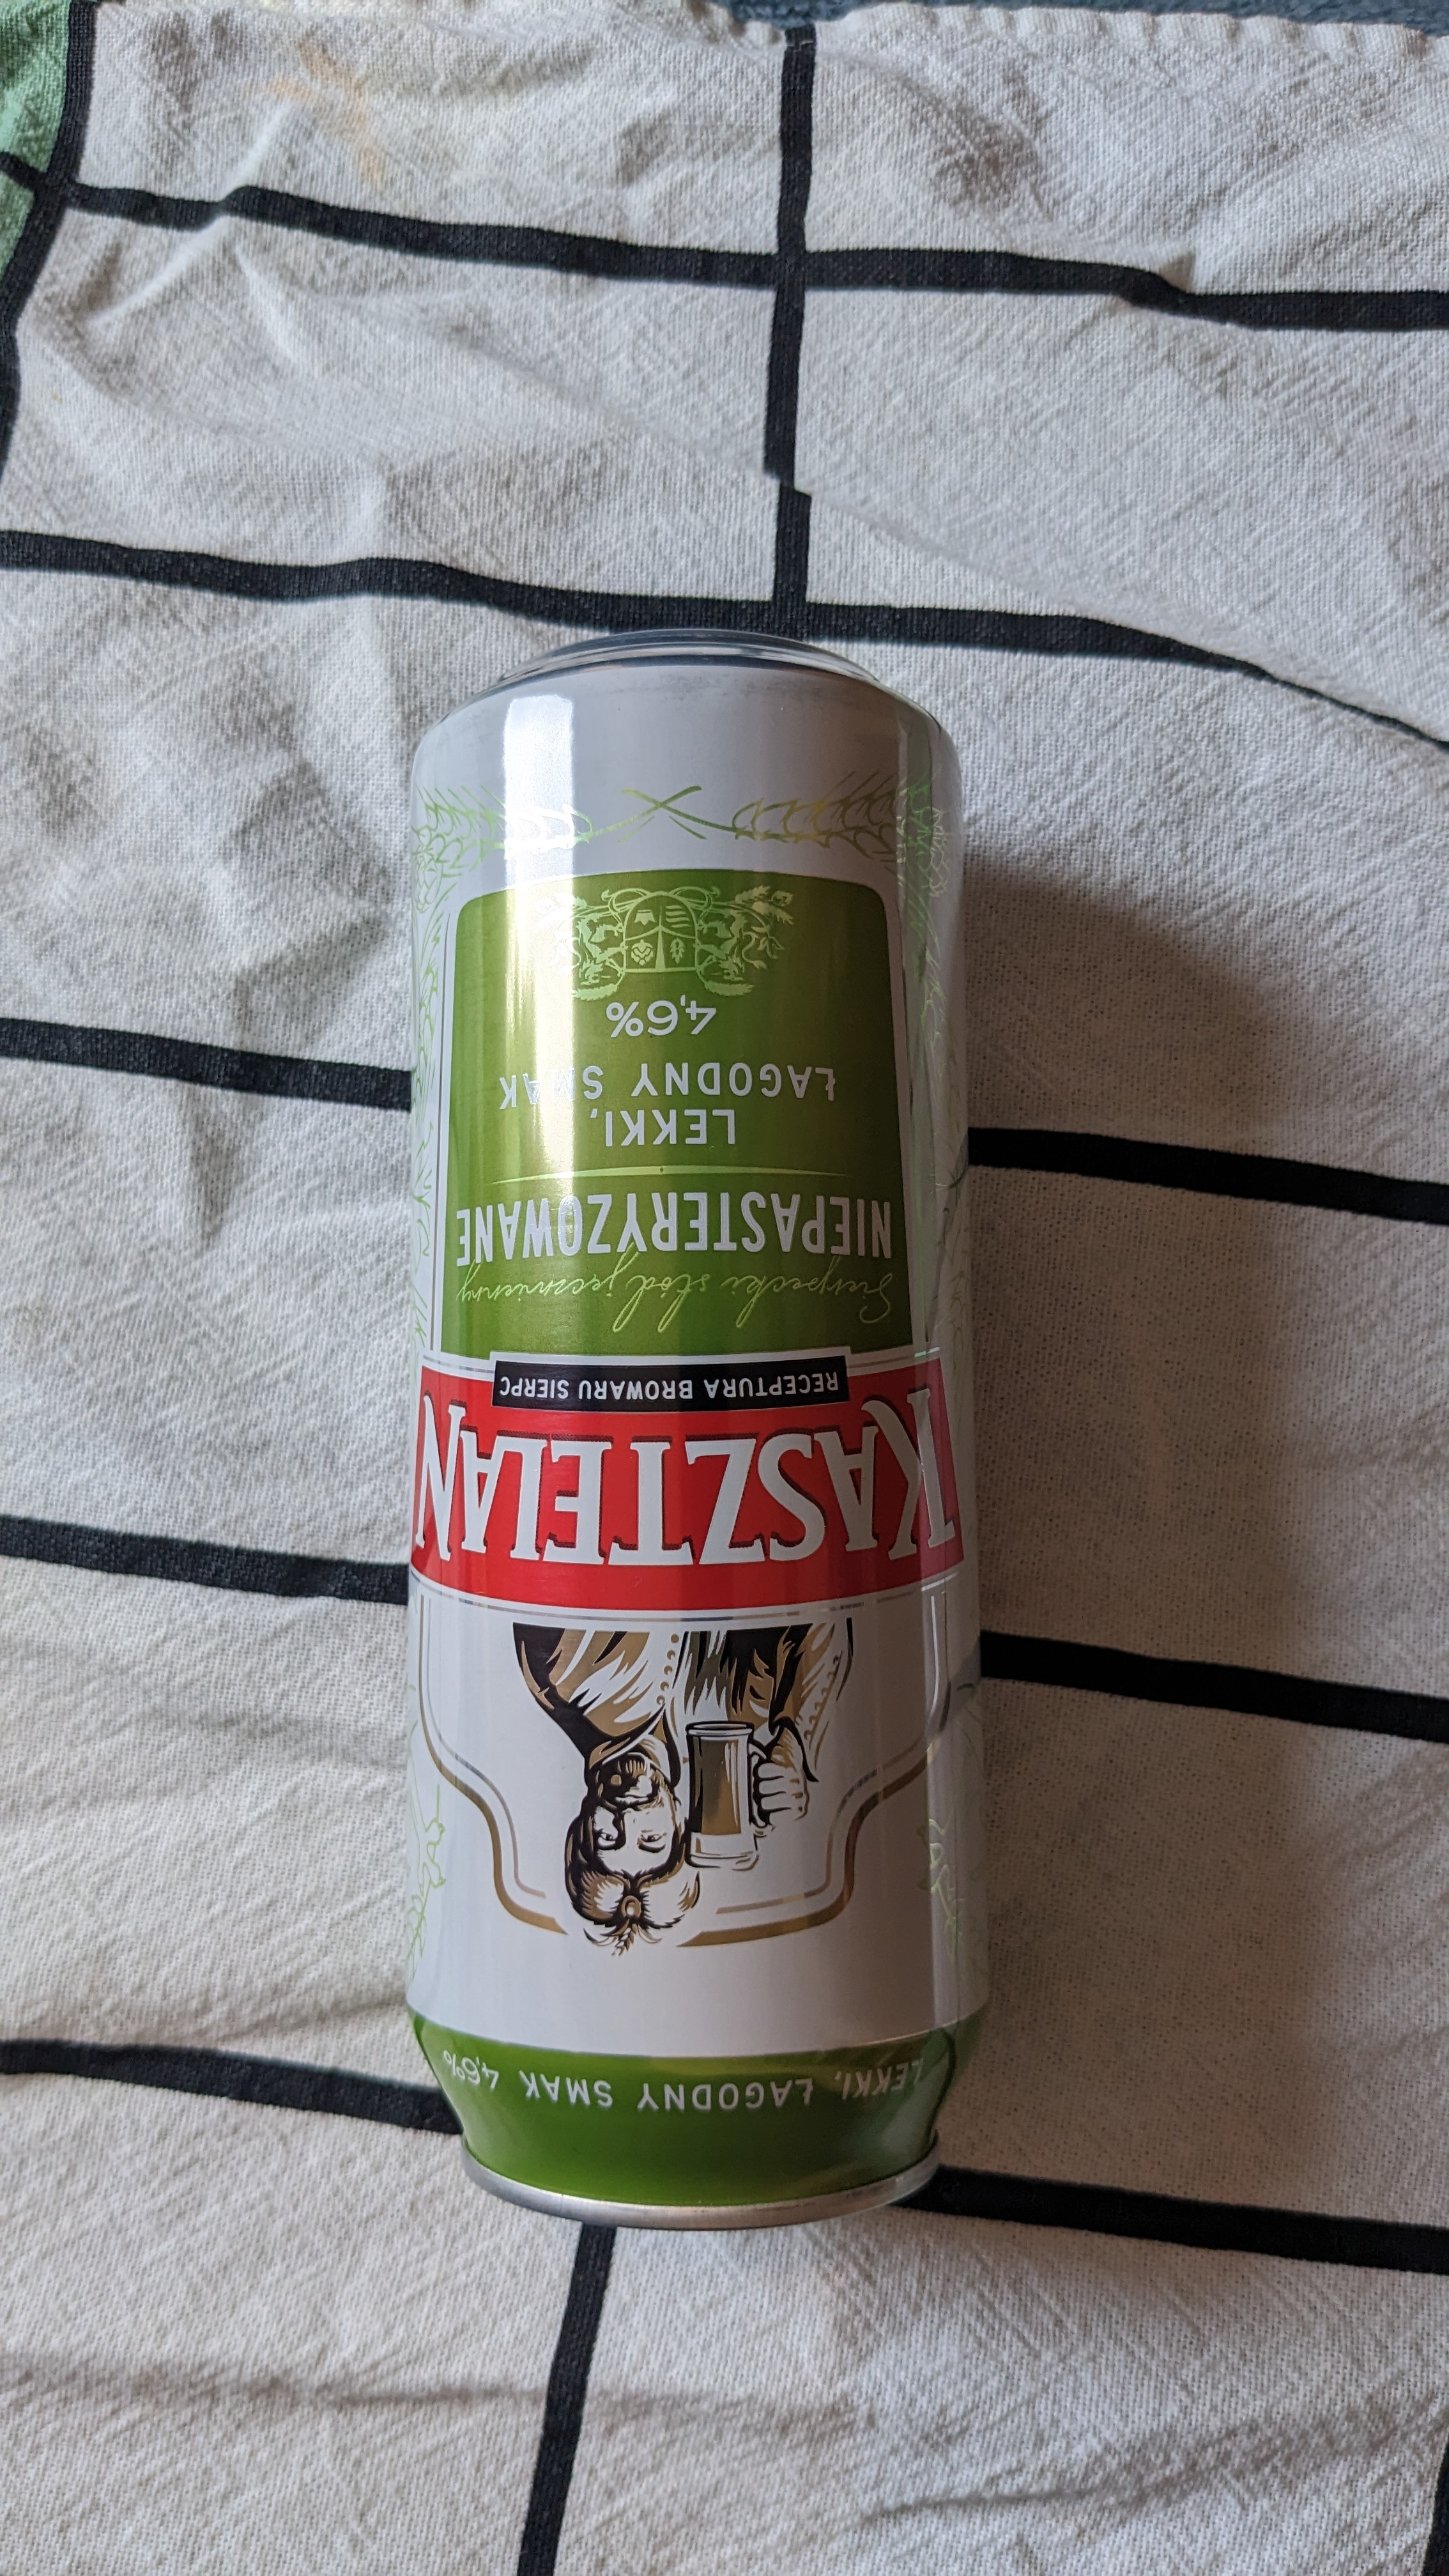kasztelan: (391, 616, 1010, 2268)
